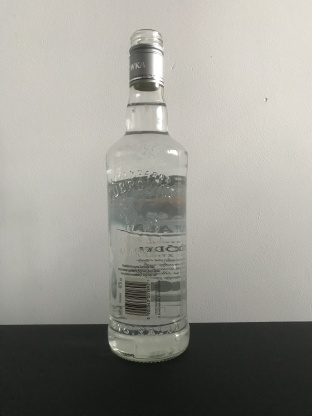nakretka: (127, 27, 166, 92)
